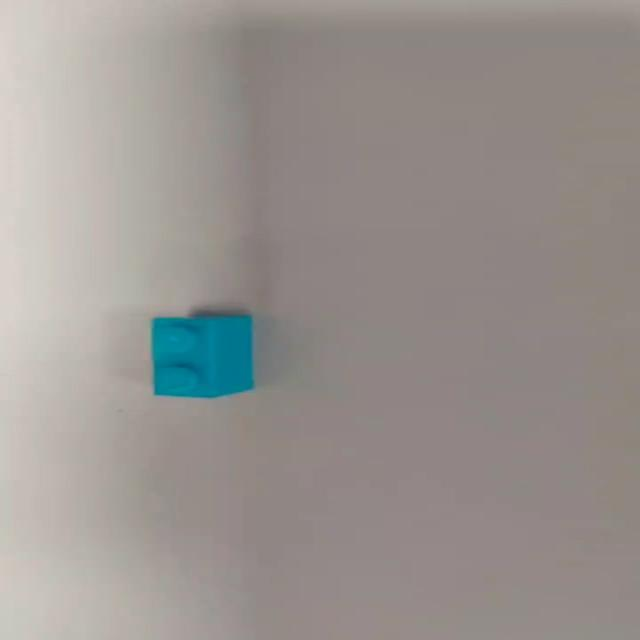C2x1x1: (149, 312, 255, 398)
